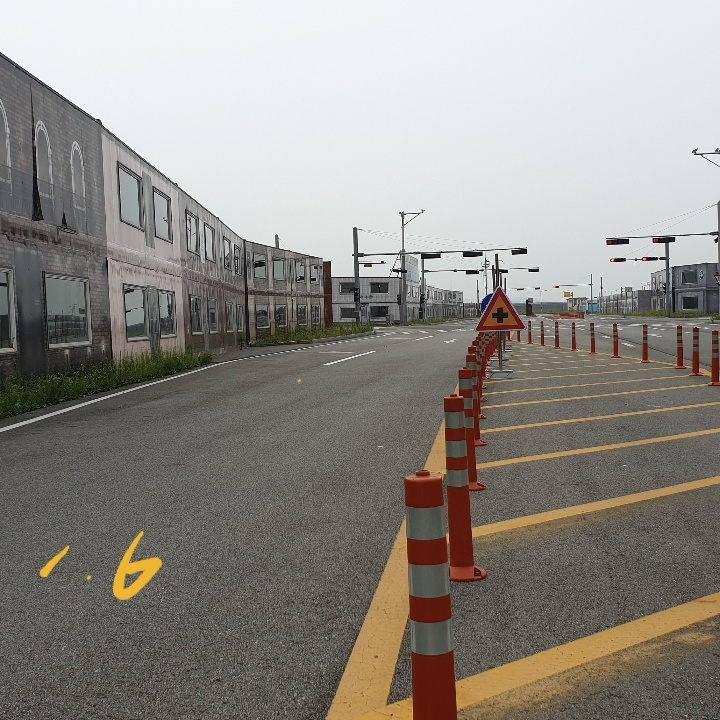inter: (488, 302, 512, 325)
